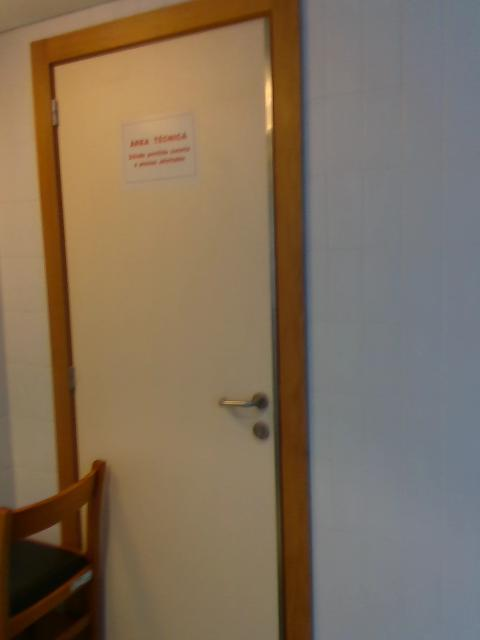door: (51, 10, 280, 640)
